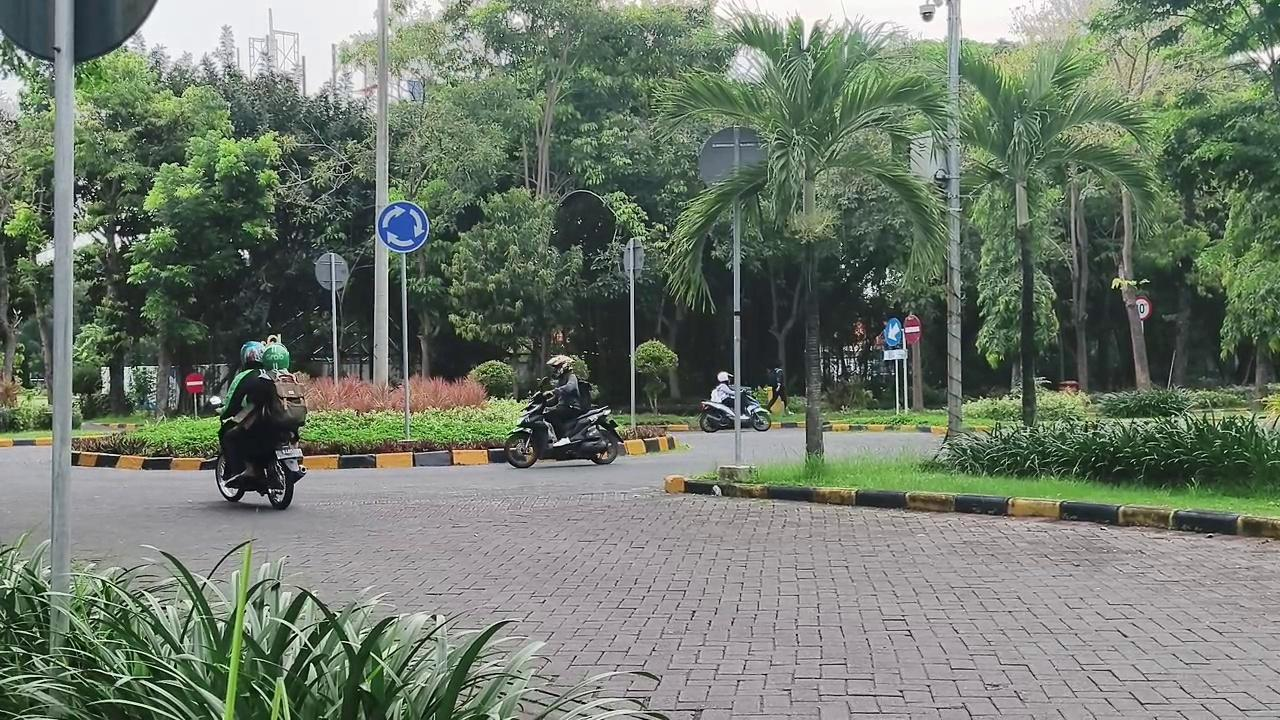Helmet: (219, 341, 288, 487), (546, 355, 582, 445), (710, 371, 735, 408)
Motor: (504, 391, 620, 468), (214, 433, 306, 509), (698, 389, 770, 432)
